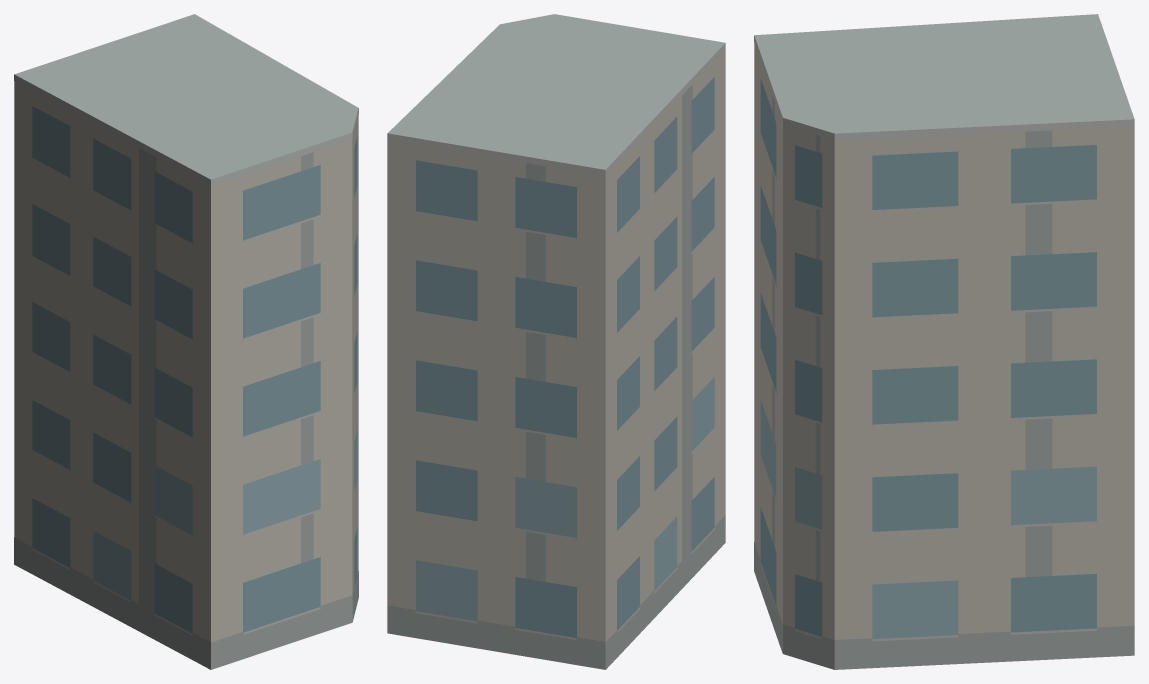
The model's file is survey-upis-32676072.glb.
3 renders of one model, left to right at view 1: azimuth 30°, elevation 25°; view 2: azimuth 150°, elevation 25°; view 3: azimuth 270°, elevation 25°, orthographic. The views are drawn at different scales.
Visible parts, largest first — view 1: survey-upis-32676072.tmp; view 2: survey-upis-32676072.tmp; view 3: survey-upis-32676072.tmp.
Part boxes in pixels (x1,y1,x2,y2): survey-upis-32676072.tmp: (14, 14, 358, 669); survey-upis-32676072.tmp: (387, 14, 725, 669); survey-upis-32676072.tmp: (754, 14, 1134, 669).
Size of the model in its own units: 8.72 by 18.2 by 11.71.
